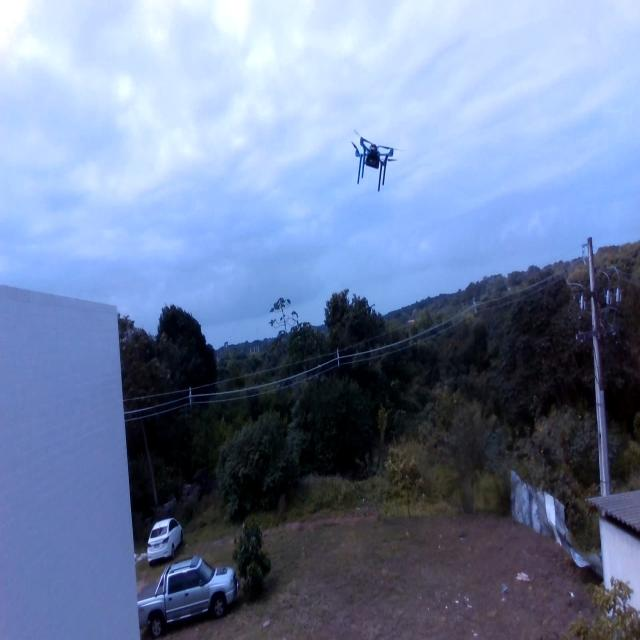-uav-: (346, 105, 403, 203)
